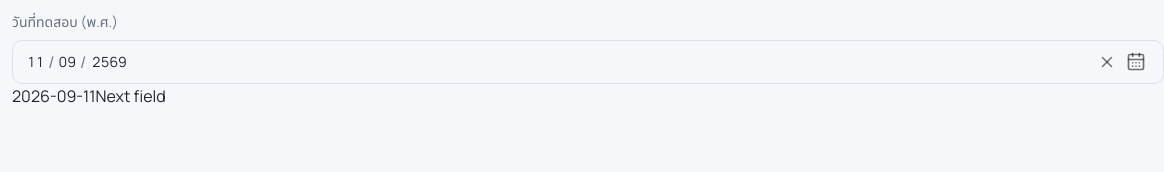
it: Buddhist picker behavior › types Buddhist years and posts only ISO values, including five-digit Buddhist years
Replace the text in the number field named "ปี พ.ศ." with "2570": point(109, 62) [88,44,131,80]
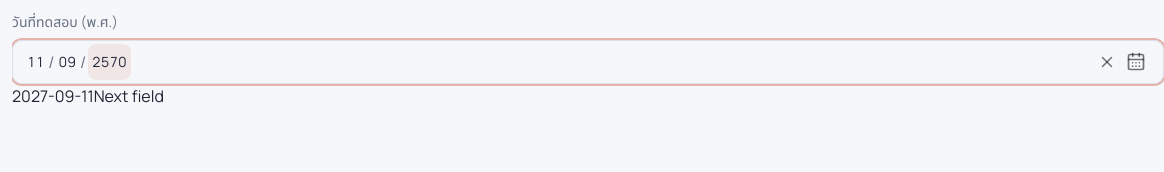
Expected: the element named "test-date" holds "2027-09-11", [12,40,1163,84]
Result: the text with test id "value" reads "2027-09-11" at [12,85,94,107]
Replace the text in the number field named "ปี พ.ศ." with "10542": point(109, 62) [88,44,131,80]
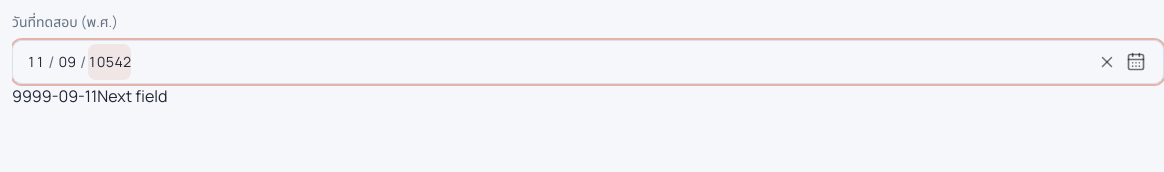
Result: the text with test id "value" reads "9999-09-11" at [12,85,97,107]
